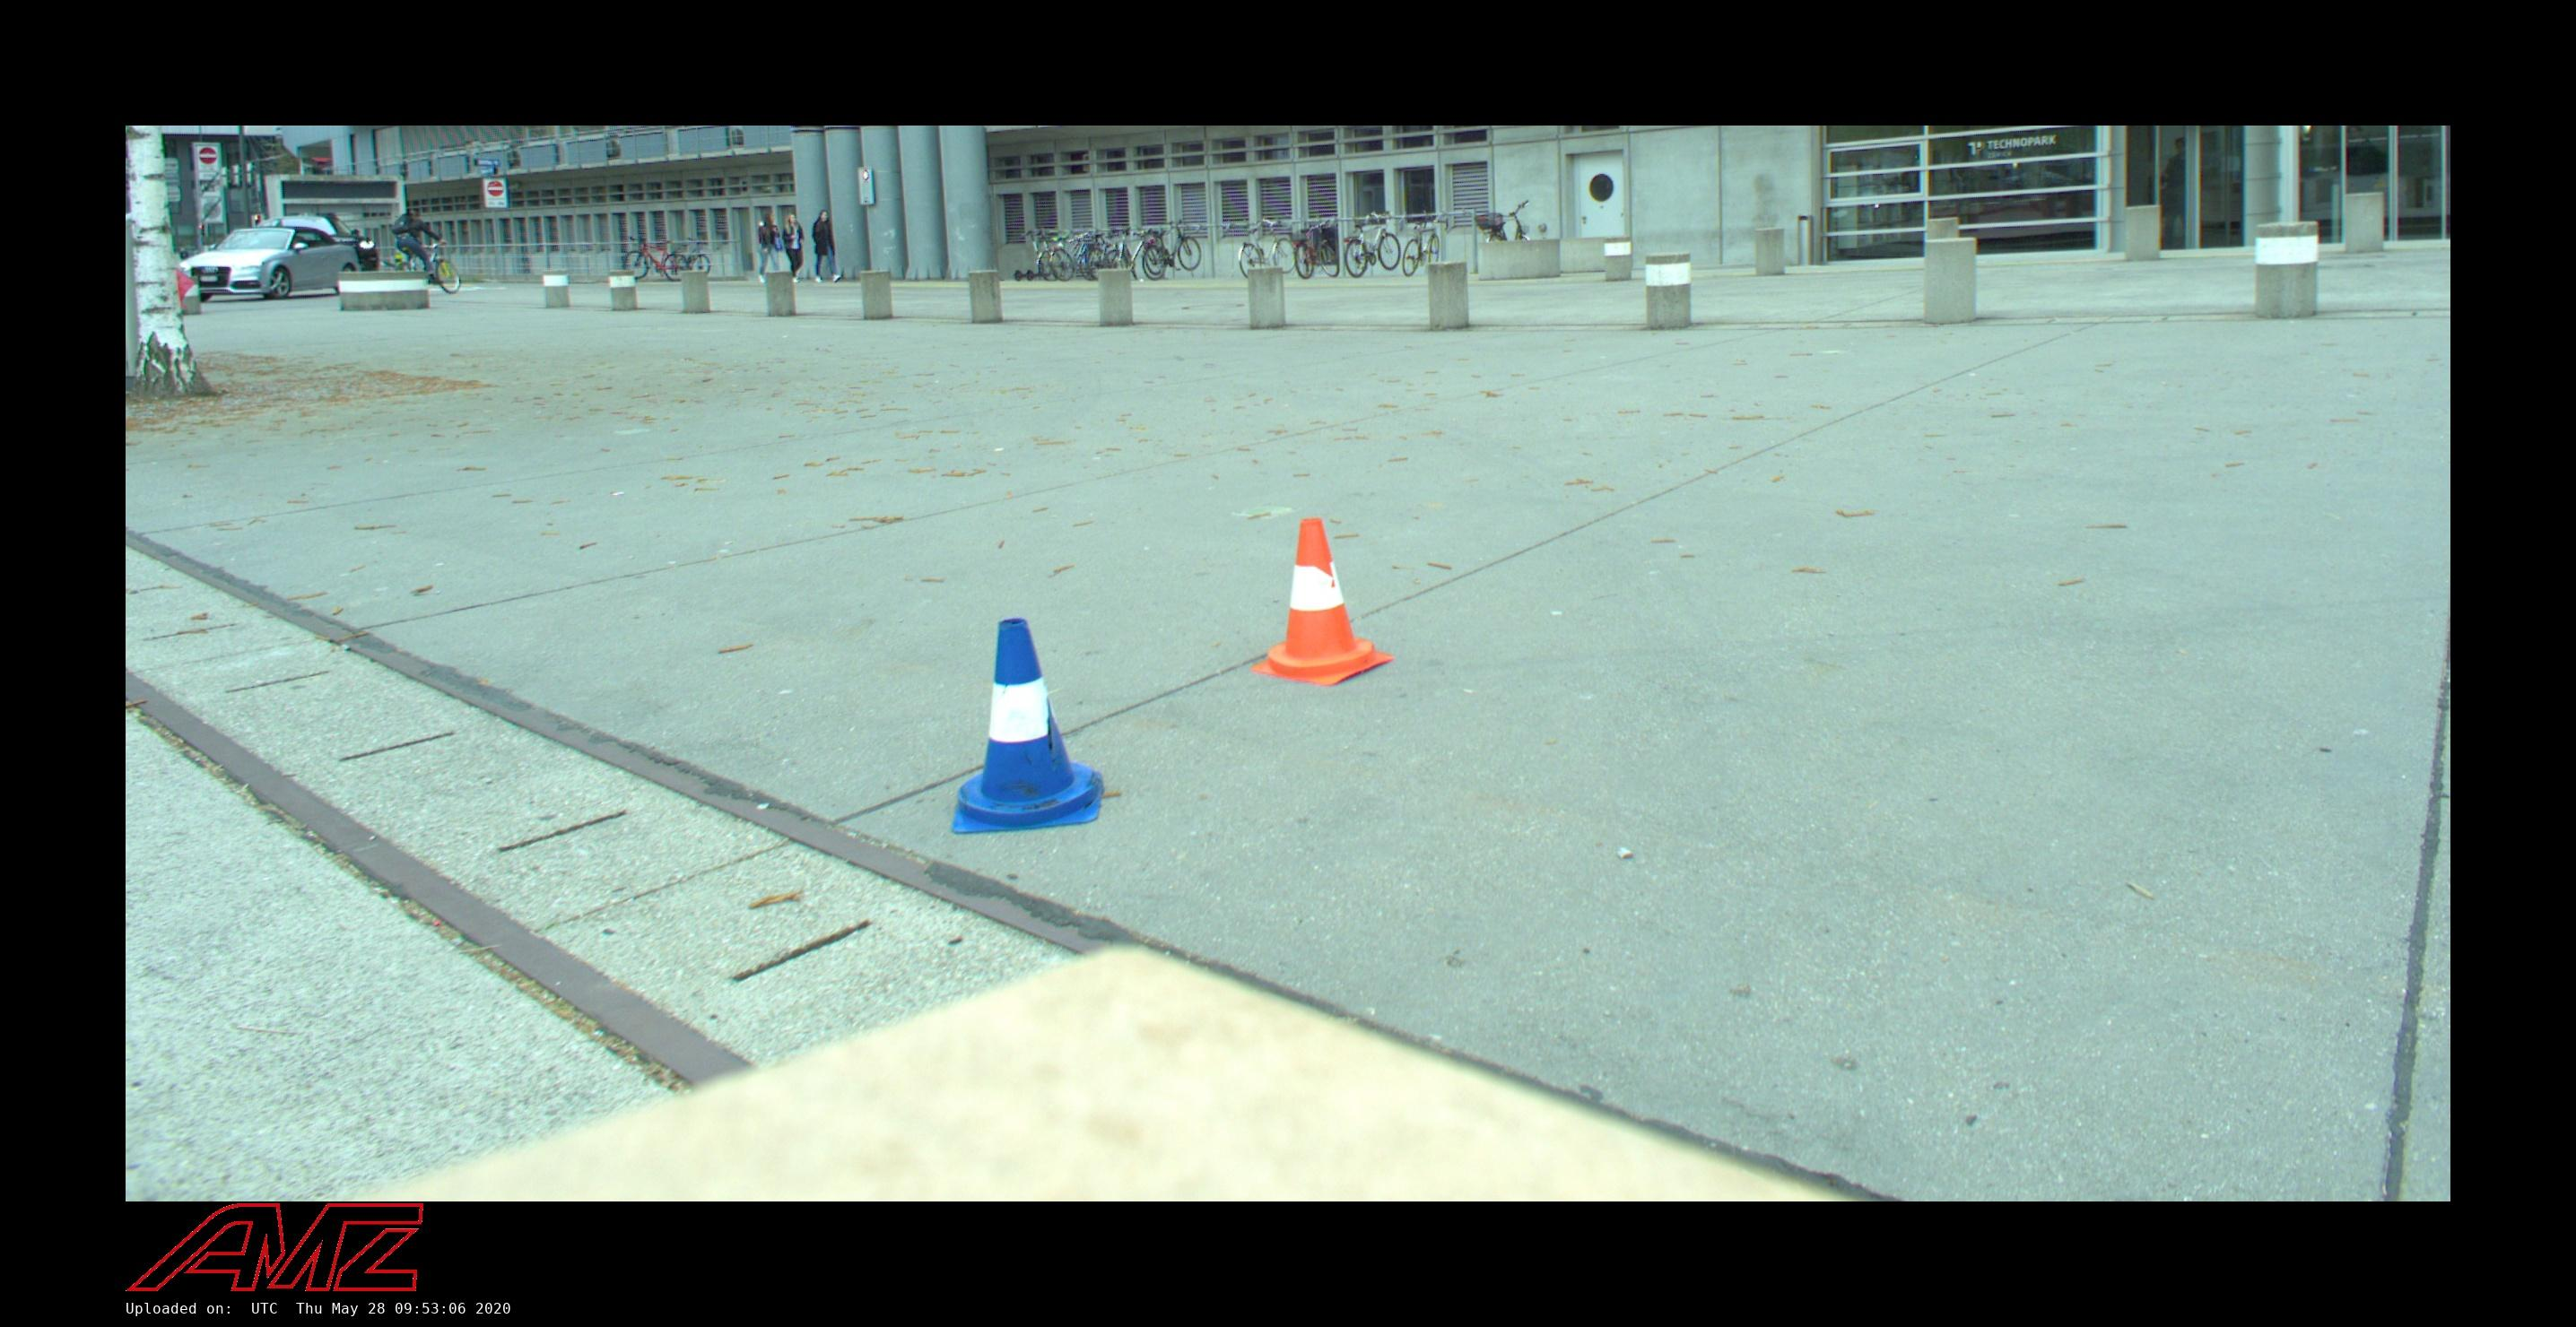blue_cone: (946, 614, 1105, 831)
orange_cone: (1247, 516, 1391, 686)
